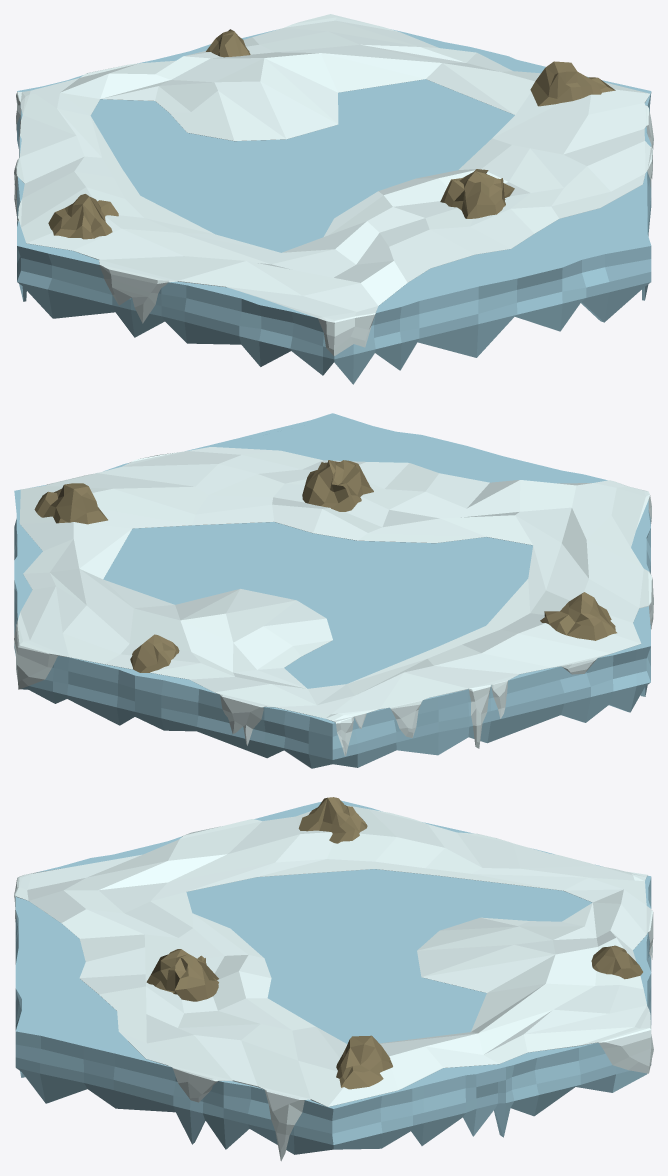
Rendered from G_TundraHex.fbx.
3 views of the same model, one above another, from view 1: azimuth 30°, elevation 25°; view 2: azimuth 150°, elevation 25°; view 3: azimuth 270°, elevation 25° (orthographic).
Visible parts, largest first — view 1: G_Snow, G_TundraHexagon, G_TundraHexagonDrip, G_Rock01, G_Rock02, G_Rock04, G_Rock03; view 2: G_Snow, G_TundraHexagon, G_TundraHexagonDrip, G_Rock01, G_Rock04, G_Rock02, G_Rock03; view 3: G_Snow, G_TundraHexagon, G_TundraHexagonDrip, G_Rock01, G_Rock02, G_Rock04, G_Rock03.
Boxes of the visible parts, x1,y1,x2,y2 form: G_Snow: (14, 14, 653, 356); G_TundraHexagon: (34, 39, 640, 307); G_TundraHexagonDrip: (17, 29, 651, 384); G_Rock01: (440, 169, 514, 218); G_Rock02: (530, 61, 615, 106); G_Rock04: (48, 194, 118, 239); G_Rock03: (206, 29, 250, 57); G_Snow: (14, 447, 653, 755); G_TundraHexagon: (25, 418, 640, 688); G_TundraHexagonDrip: (14, 413, 650, 768); G_Rock01: (302, 460, 373, 511); G_Rock04: (540, 592, 616, 640); G_Rock02: (34, 483, 107, 524); G_Rock03: (130, 634, 179, 672); G_Snow: (14, 805, 653, 1161); G_TundraHexagon: (26, 808, 640, 1085); G_TundraHexagonDrip: (15, 800, 651, 1154); G_Rock01: (146, 949, 218, 1001); G_Rock02: (336, 1035, 392, 1089); G_Rock04: (298, 797, 367, 843); G_Rock03: (591, 945, 642, 979).
Bounding box in the file's own units: 3580 × 588 × 3121.
